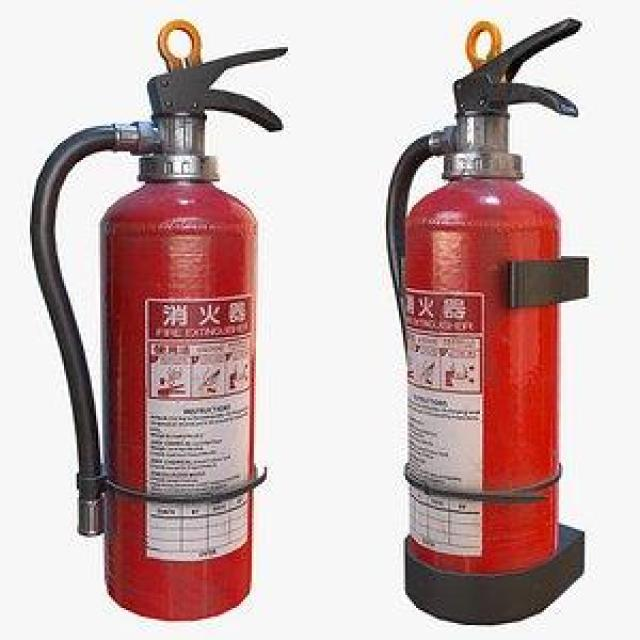fire_extinguisher: (22, 40, 294, 626), (380, 12, 584, 618)
